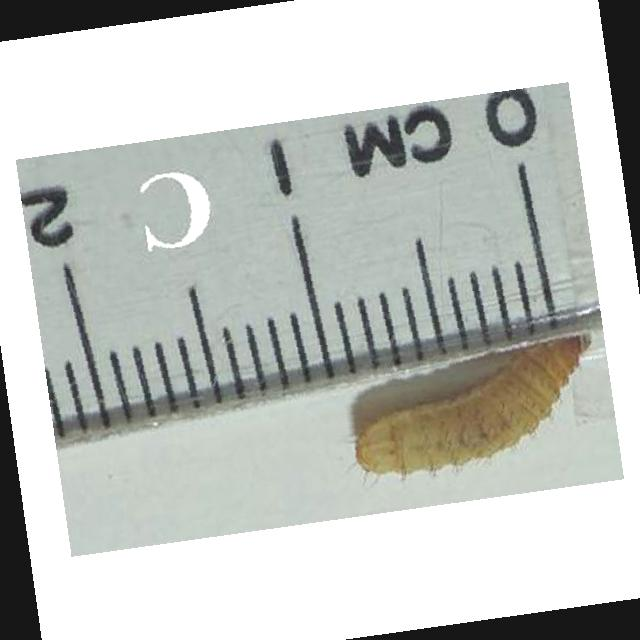Maggot: (350, 329, 599, 478)
